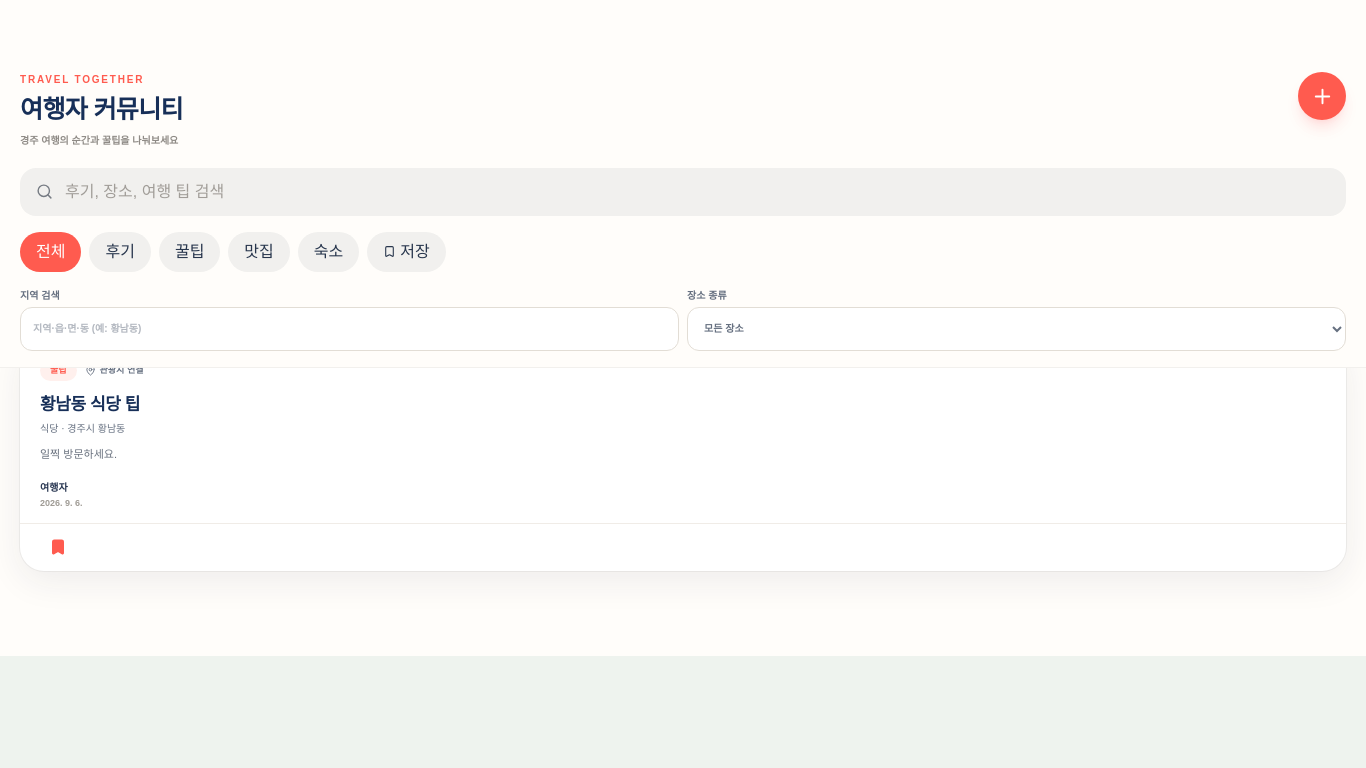
Test case: community filtered feeds › removes an unbookmarked post from the saved-only feed after persistence succeeds
The width and height of the screenshot is (1366, 768).
expect the heading "황남동 식당 팁" is shown: met, box [40, 395, 140, 414]
Click the button "저장" at (407, 252), box [367, 232, 446, 272]
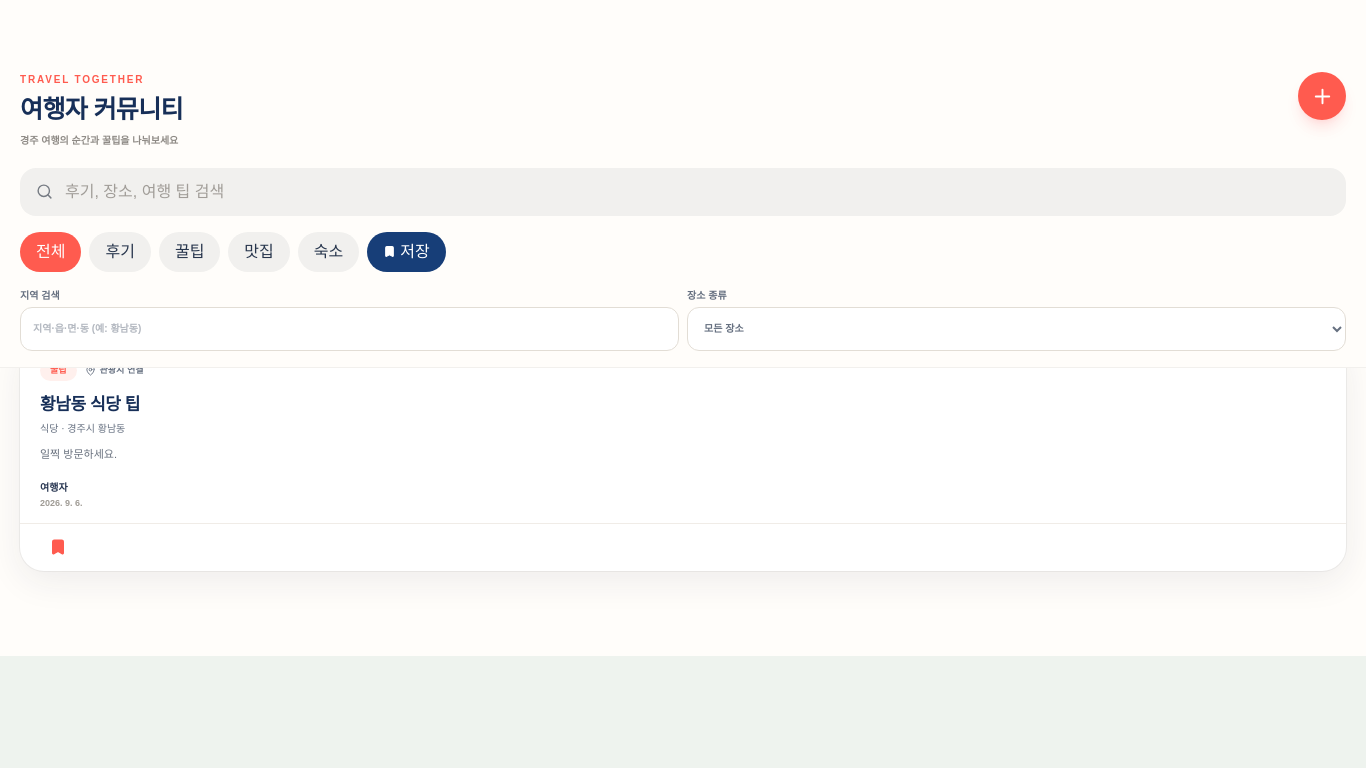
expect the heading "황남동 식당 팁" is shown: met, box [40, 395, 140, 414]
Click the button named "북마크 해제" at (58, 547), box [36, 525, 80, 569]
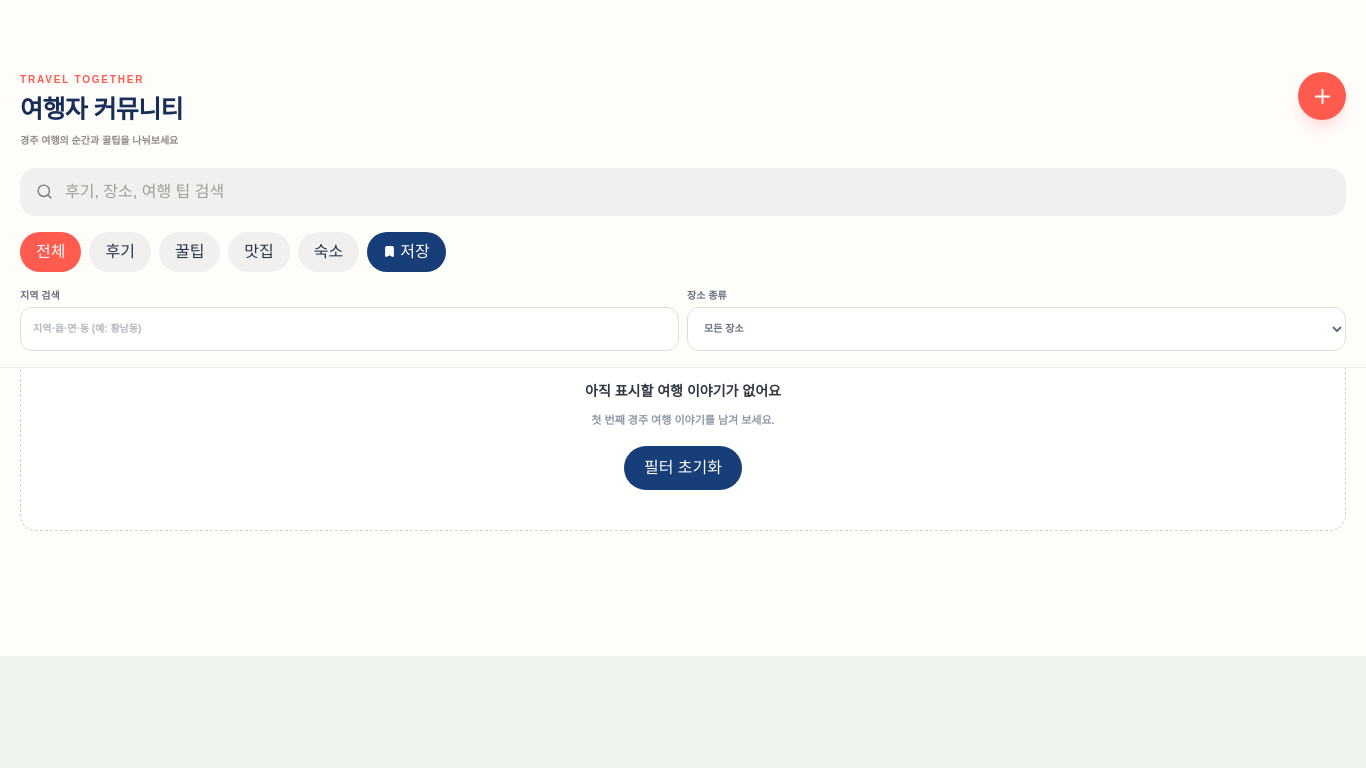
expect the link "황남동 식당 팁" is gone: met
